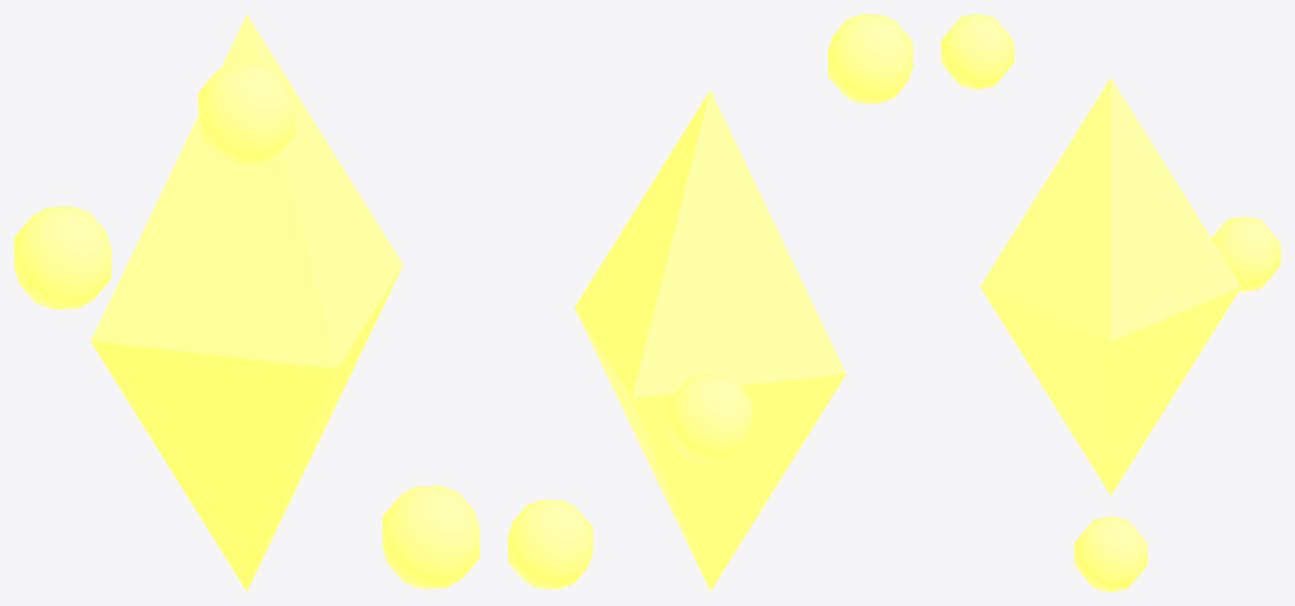
The model's file is Kid_Antenna.glb.
3 renders of one model, left to right at view 1: azimuth 30°, elevation 25°; view 2: azimuth 150°, elevation 25°; view 3: azimuth 270°, elevation 25°, orthographic. The views are drawn at different scales.
Parts seen in each view (by area): view 1: Kid_Antenna; view 2: Kid_Antenna; view 3: Kid_Antenna.
Part boxes in pixels (x1,y1,x2,y2): Kid_Antenna: (14,14,479,591); Kid_Antenna: (508,14,912,591); Kid_Antenna: (941,14,1280,591).
Size of the model in its own units: 8.35 by 13.6 by 8.83.
